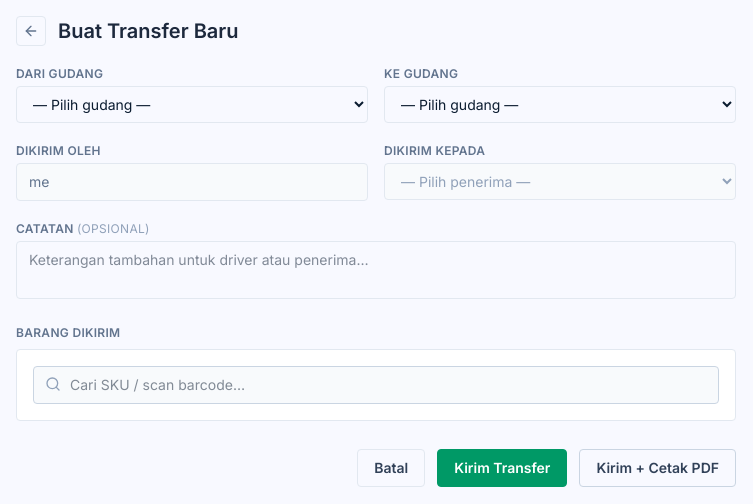
Test: WarehouseTransferCreateScreen › F5-14: empty-state helper NOT shown when receivers are available
Step 1. Select "Gudang Atas" in the dropdown labelled "Dari Gudang" → [192, 104], box [16,86,368,123]
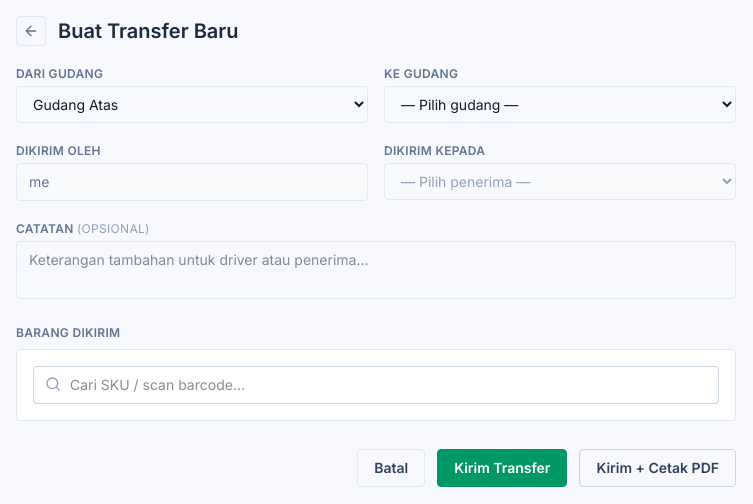
Step 2. Select "Gudang Bawah" in the dropdown labelled "Ke Gudang" → [560, 104], box [384,86,736,123]
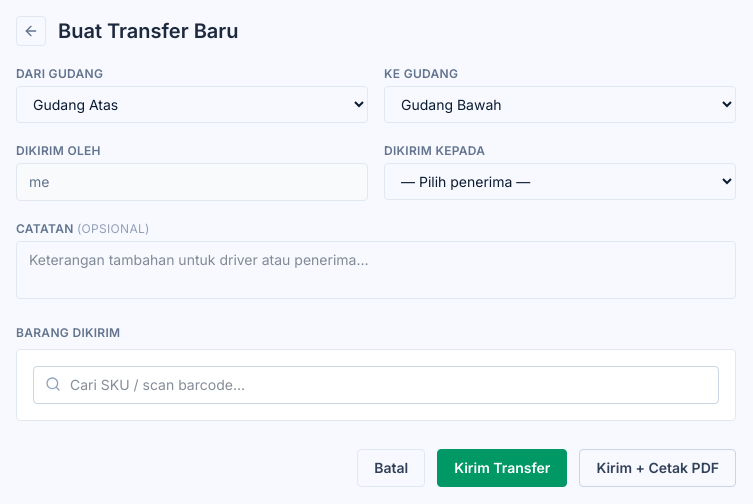
Result: the dropdown labelled "Dikirim Kepada" is enabled at [384,163,736,200]
